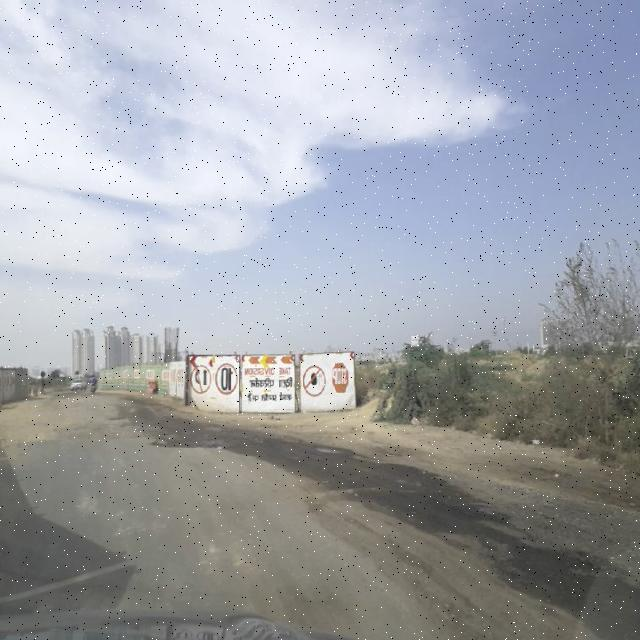D40: (313, 466, 640, 634), (134, 412, 382, 464)
